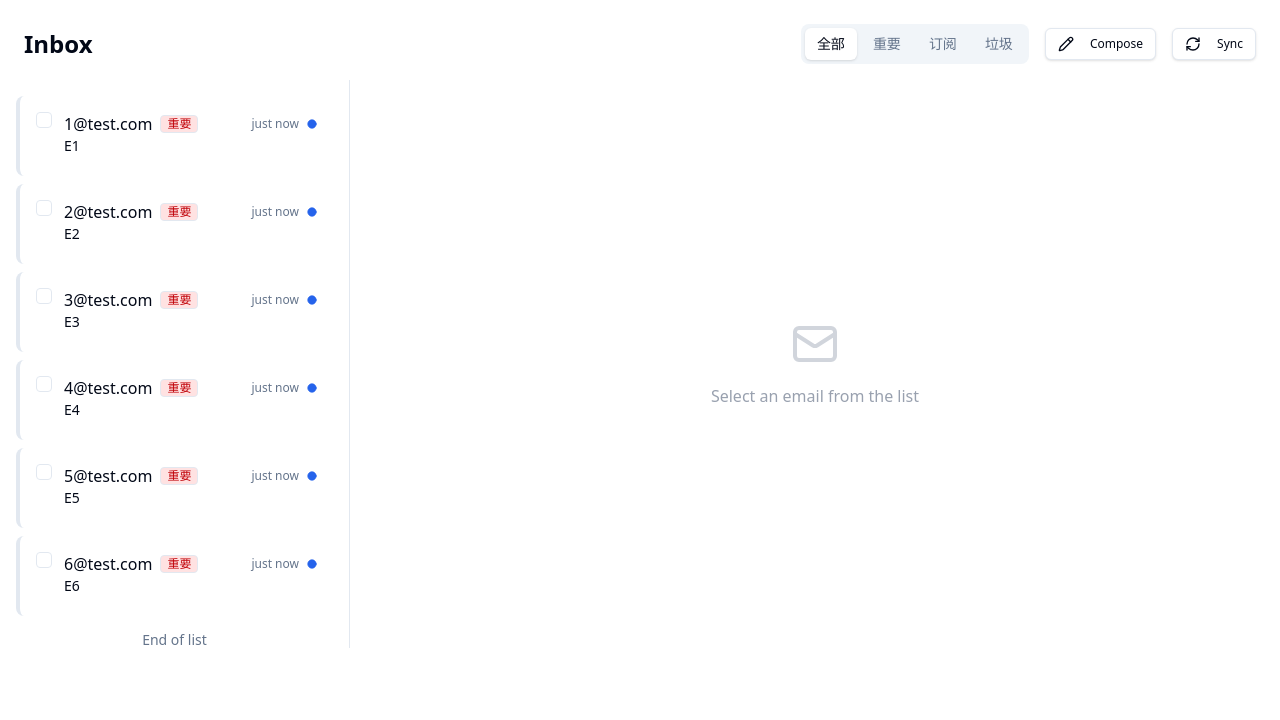
InboxPage › Selection Counter › should show maximum reached warning when 5 emails selected
The width and height of the screenshot is (1280, 720).
Check: the text "E1" is shown, box [64,136,80,155]
What coordinates should you click on to do the following:
click the 1st checkbox
I would click on:
 (44, 120)
Its box is [36,112,52,128].
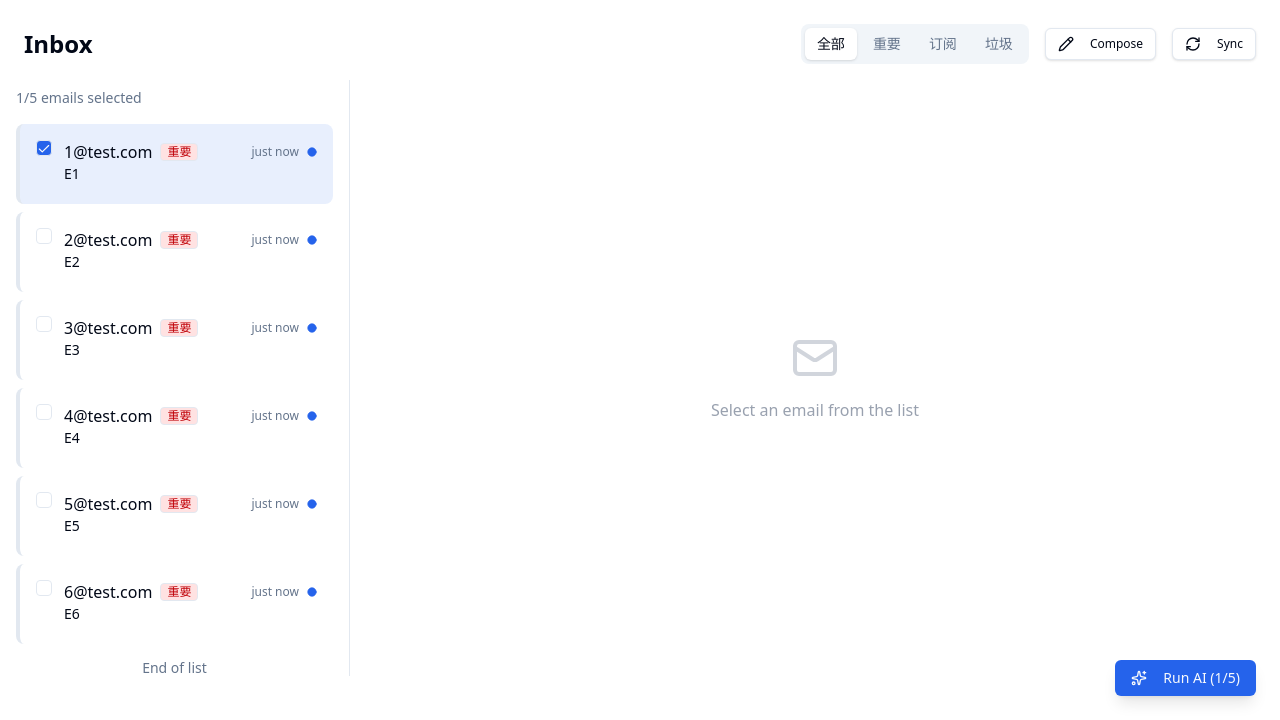
What coordinates should you click on to do the following:
click the 2nd checkbox
I would click on:
 (44, 236)
Its box is [36,228,52,244].
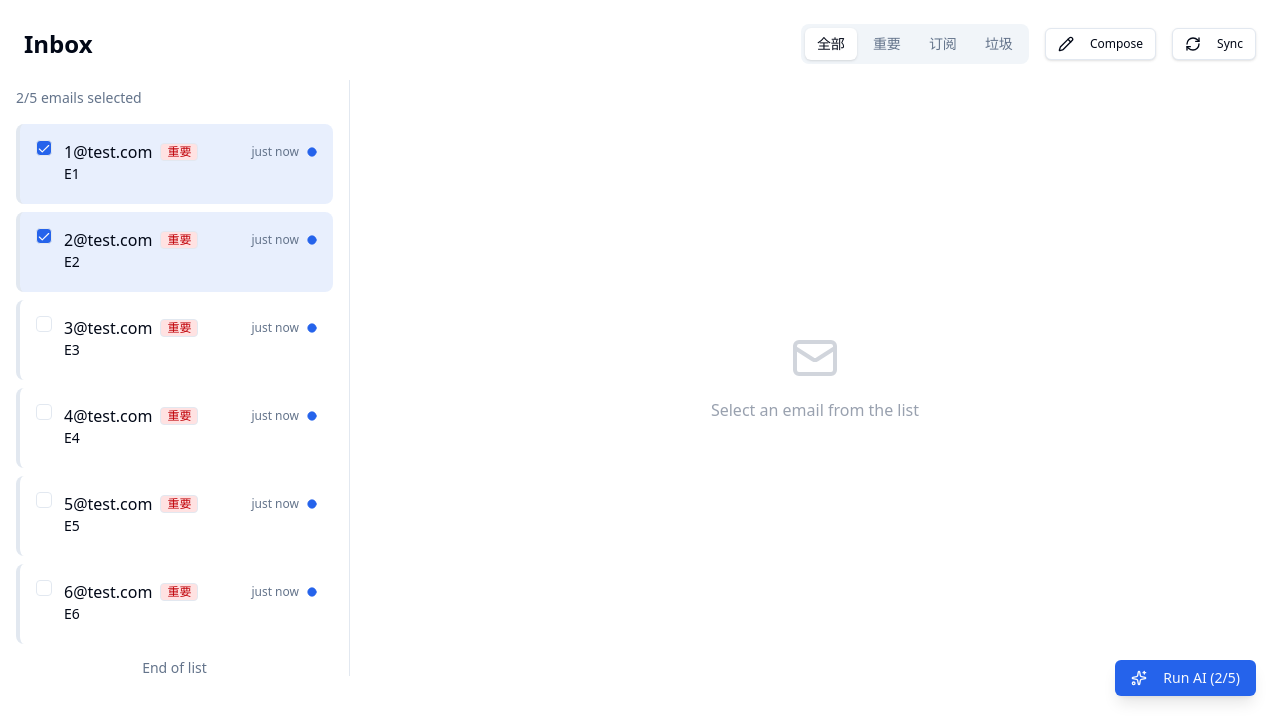
What coordinates should you click on to do the following:
click the 3rd checkbox
I would click on:
 (44, 324)
Its box is [36,316,52,332].
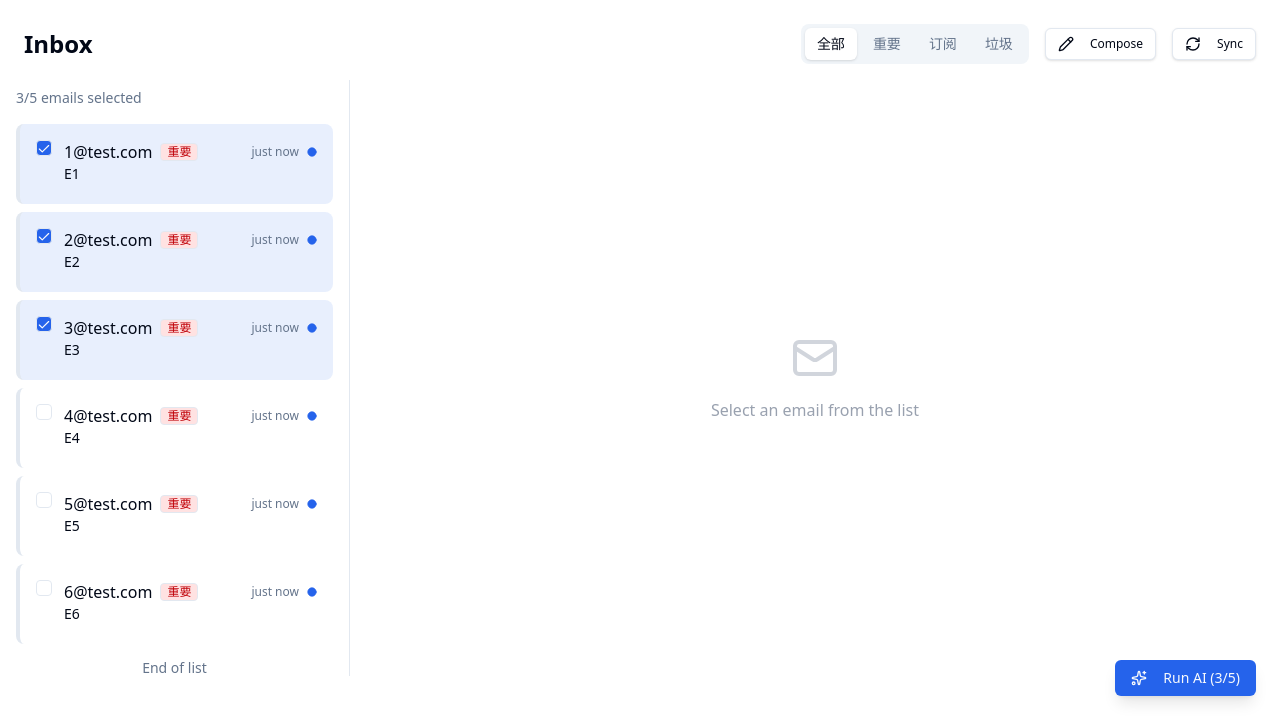
What coordinates should you click on to do the following:
click the 4th checkbox
I would click on:
 (44, 412)
Its box is [36,404,52,420].
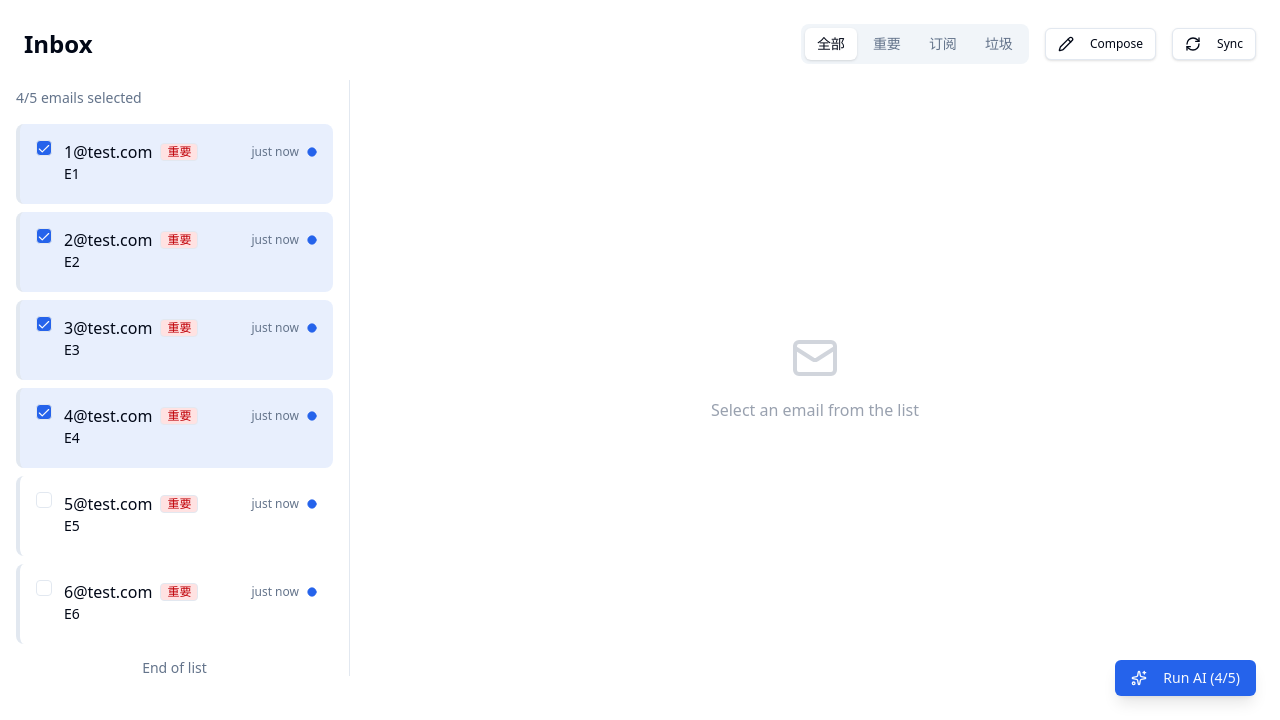
What coordinates should you click on to do the following:
click the 5th checkbox
I would click on:
 (44, 500)
Its box is [36,492,52,508].
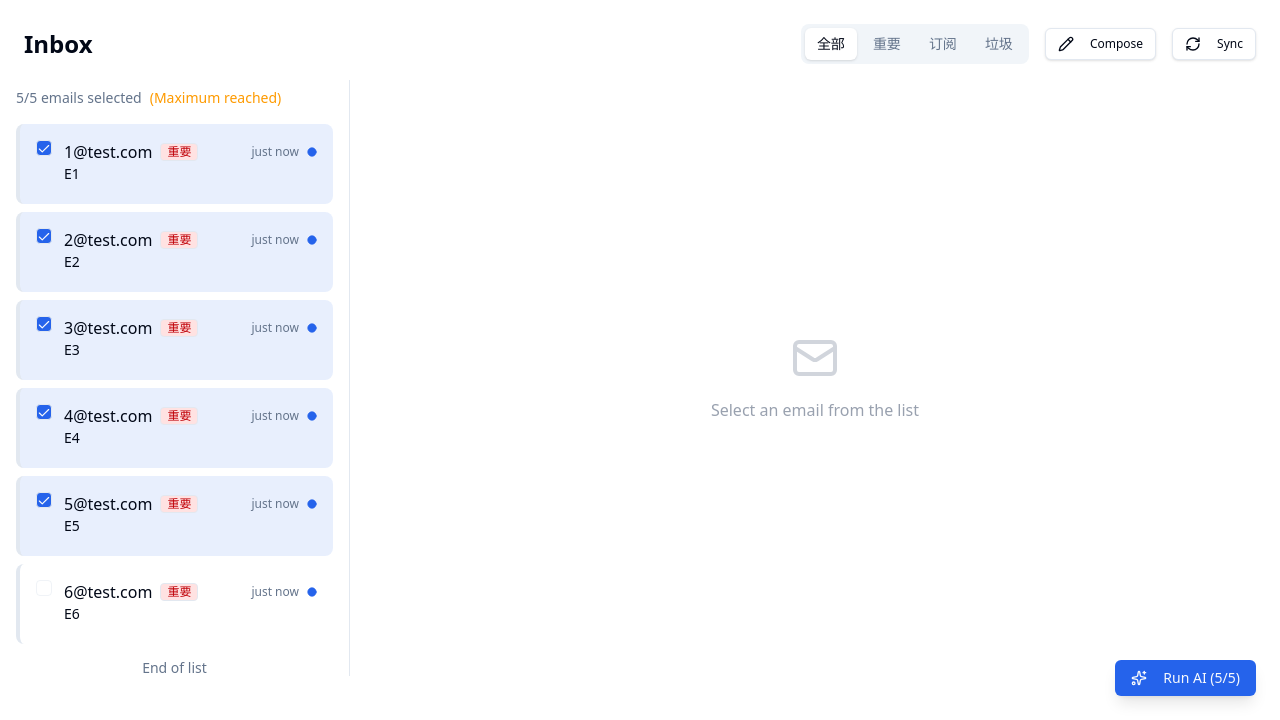
Check: the text "(Maximum reached)" is shown, box [150,88,281,107]
